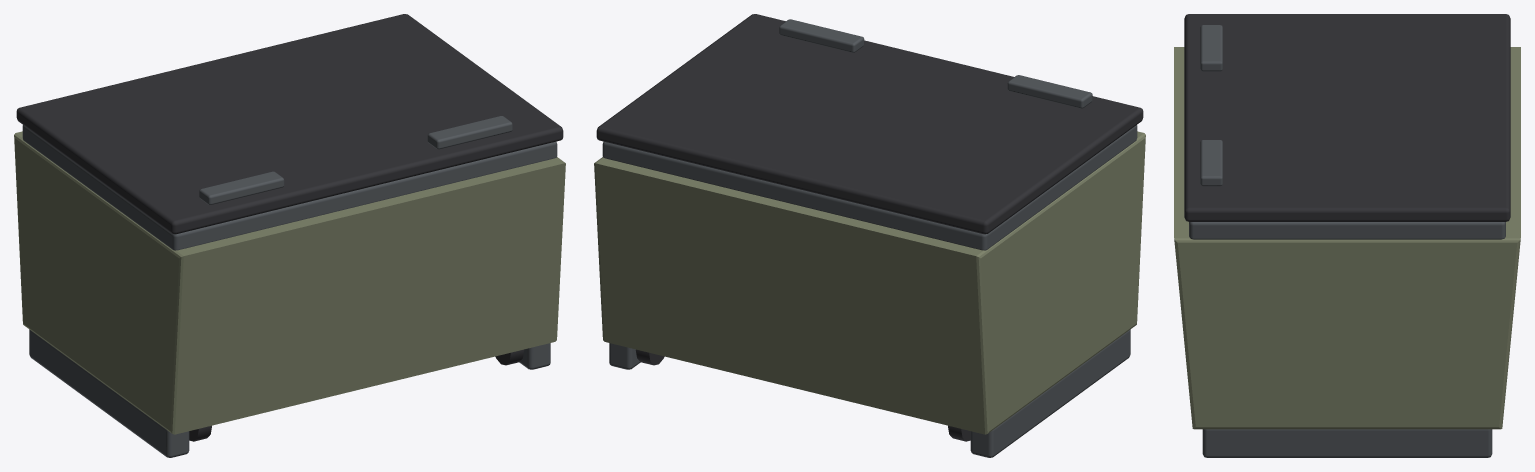
Rendered from packed.glb.
3 renders of one model, left to right at view 1: azimuth 30°, elevation 25°; view 2: azimuth 150°, elevation 25°; view 3: azimuth 270°, elevation 25°, orthographic. The views are drawn at different scales.
Visible parts, largest first — view 1: dumpster, lid/black, lid/gunmetal; view 2: dumpster, lid/black, lid/gunmetal; view 3: dumpster, lid/black, lid/gunmetal.
Part boxes in pixels (<box>): dumpster: <box>14,125,565,457</box>; lid/black: <box>16,14,563,234</box>; lid/gunmetal: <box>199,116,512,204</box>; dumpster: <box>594,125,1145,457</box>; lid/black: <box>596,14,1143,234</box>; lid/gunmetal: <box>779,19,1092,108</box>; dumpster: <box>1174,47,1520,457</box>; lid/black: <box>1184,14,1510,221</box>; lid/gunmetal: <box>1200,25,1222,186</box>.
Bounding box in the file's own units: 2.06 × 1.28 × 1.53.
